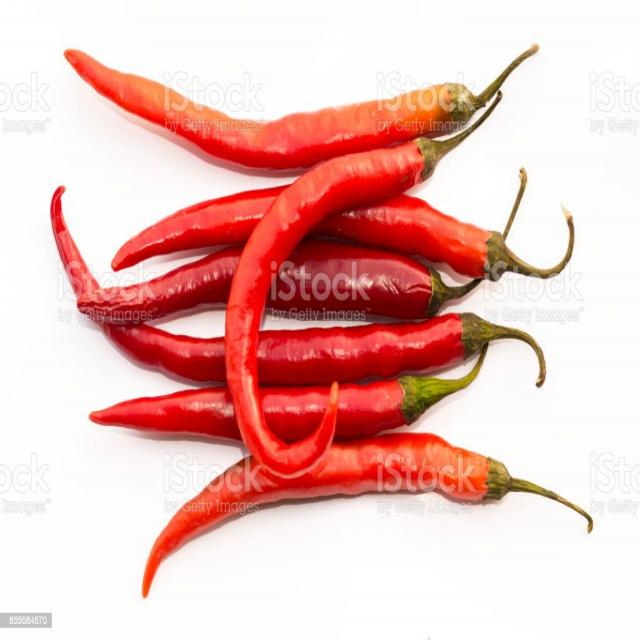red chili: (224, 90, 502, 478), (144, 434, 570, 592), (64, 43, 539, 168), (258, 312, 547, 387), (56, 214, 241, 323), (310, 194, 547, 279), (267, 239, 472, 319), (117, 189, 278, 265), (335, 369, 478, 439), (51, 187, 130, 306), (99, 323, 224, 382), (89, 389, 238, 438), (261, 389, 330, 442)
